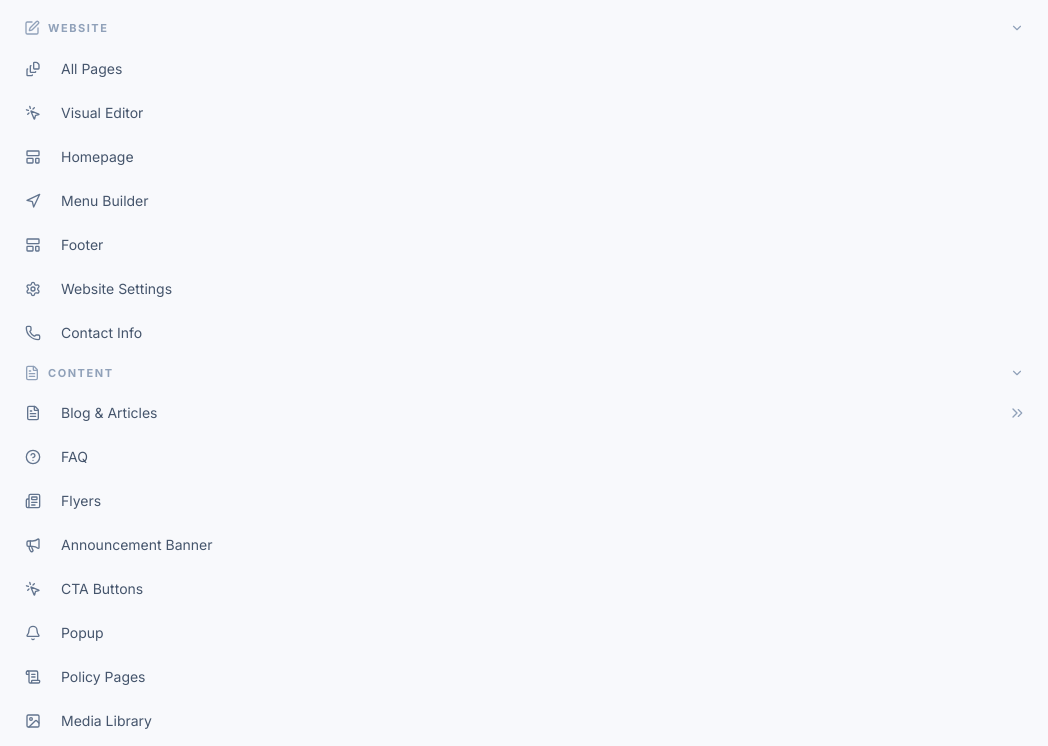
Test: expands and collapses a submenu manually via its chevron button
Expected: the text "Drafts" is not shown
Click the button named "Toggle Blog & Articles submenu": (1020, 413) [1004,393,1036,433]
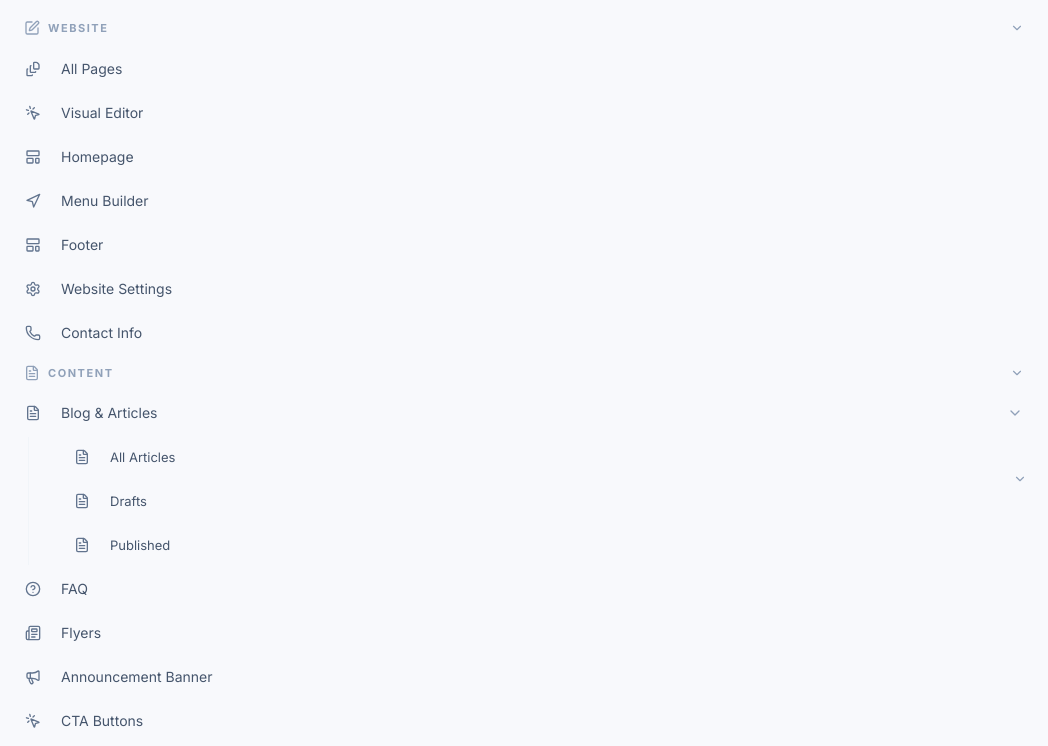
Result: the button named "Toggle Blog & Articles submenu" is expanded at [1004,393,1036,565]
Result: the text "Drafts" is shown at [110,493,147,509]
Result: the text "Published" is shown at [110,537,170,553]
